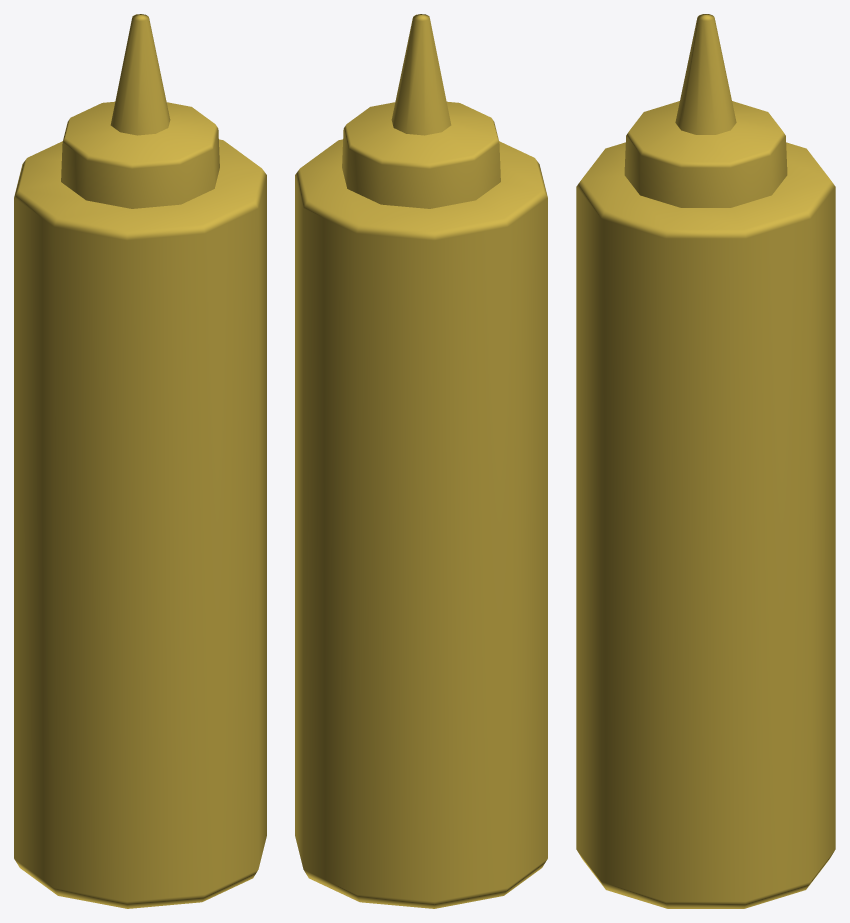
File: M_Food_Bottle_Sauce_002.fbx
3 renders of one model, left to right at view 1: azimuth 30°, elevation 25°; view 2: azimuth 150°, elevation 25°; view 3: azimuth 270°, elevation 25°, orthographic.
Parts seen in each view (by area): view 1: MBottle; view 2: MBottle; view 3: MBottle.
Boxes of the visible parts, x1,y1,x2,y2 form: MBottle: (14, 14, 266, 908); MBottle: (295, 14, 547, 908); MBottle: (576, 14, 835, 908).
Bounding box in the file's own units: 18.62 × 70.33 × 19.57.
